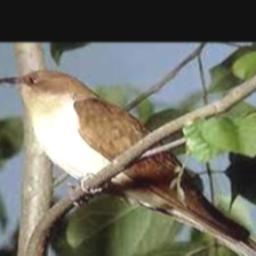Cuckoo: (0, 70, 256, 256)
